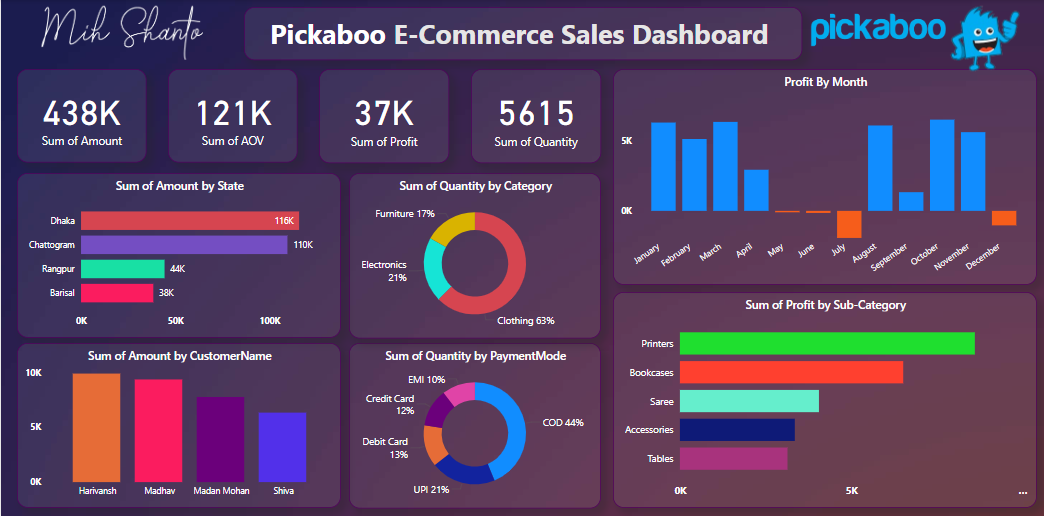

Layout of this report page (visuals, bound fields, positions):
{"tool":"powerbi","page":{"name":"Page 1","canvas":[1450,720],"ordinal":0},"visuals":[{"type":"image","box":[1091.1,0,257.1,83.4],"z":0,"group":"g1"},{"type":"clusteredColumnChart","title":"Profit By Month","fields":{"Y":["Sum(Details.Profit)"],"Category":["Orders.Order Date.Variation.Date Hierarchy.Month"]},"box":[850.7,95.9,589.3,300.2],"z":0},{"type":"image","box":[1303.8,0,125.1,107],"z":1000,"group":"g1"},{"type":"barChart","fields":{"Category":["Details.Sub-Category"],"Y":["Sum(Details.Profit)"]},"box":[850.7,405.9,589.3,300.2],"z":1000},{"type":"donutChart","fields":{"Category":["Details.PaymentMode"],"Y":["Sum(Details.Quantity)"]},"box":[483.7,476.8,350,230],"z":2000},{"type":"donutChart","fields":{"Y":["Sum(Details.Quantity)"],"Category":["Details.Category"]},"box":[483.7,240.5,350,230],"z":3000},{"type":"card","fields":{"Values":["Sum(Details.Amount)"]},"box":[22.2,95.9,180,130],"z":4000},{"type":"card","fields":{"Values":["Sum(Details.AOV)"]},"box":[232.4,95.9,180,130],"z":5000},{"type":"card","fields":{"Values":["Sum(Details.Profit)"]},"box":[442.5,95.9,180.7,130.7],"z":6000},{"type":"card","fields":{"Values":["Sum(Details.Quantity)"]},"box":[653.3,95.9,180.7,130.7],"z":7000},{"type":"barChart","fields":{"Category":["Orders.State"],"Y":["Sum(Details.Amount)"]},"box":[22.2,240.5,450.3,229.3],"z":8000},{"type":"columnChart","fields":{"Category":["Orders.CustomerName"],"Y":["Sum(Details.Amount)"]},"box":[22.2,476.8,450.3,229.3],"z":9000},{"type":"image","box":[51.4,0,233.5,95.9],"z":10000},{"type":"textbox","box":[337.2,9.7,775.6,73.7],"z":11000},{"type":"group","id":"g1","title":"Group 1","box":[1091.1,0,337.8,107],"z":12002}]}

Visuals, with their boxes in screenshot pixels (x1, y1, x2, y2), scaled from the page's 1450x720 canvas onto the 1044x516 screenshot:
image: (left=786, top=0, right=971, bottom=60)
"Profit By Month" clusteredColumnChart: (left=613, top=69, right=1037, bottom=284)
image: (left=939, top=0, right=1029, bottom=77)
barChart - Details.Sub-Category x Sum(Details.Profit): (left=613, top=291, right=1037, bottom=506)
donutChart - Details.PaymentMode x Sum(Details.Quantity): (left=348, top=342, right=600, bottom=507)
donutChart - Sum(Details.Quantity) x Details.Category: (left=348, top=172, right=600, bottom=337)
card - Sum(Details.Amount): (left=16, top=69, right=146, bottom=162)
card - Sum(Details.AOV): (left=167, top=69, right=297, bottom=162)
card - Sum(Details.Profit): (left=319, top=69, right=449, bottom=162)
card - Sum(Details.Quantity): (left=470, top=69, right=600, bottom=162)
barChart - Orders.State x Sum(Details.Amount): (left=16, top=172, right=340, bottom=337)
columnChart - Orders.CustomerName x Sum(Details.Amount): (left=16, top=342, right=340, bottom=506)
image: (left=37, top=0, right=205, bottom=69)
textbox: (left=243, top=7, right=801, bottom=60)
"Group 1" group: (left=786, top=0, right=1029, bottom=77)
